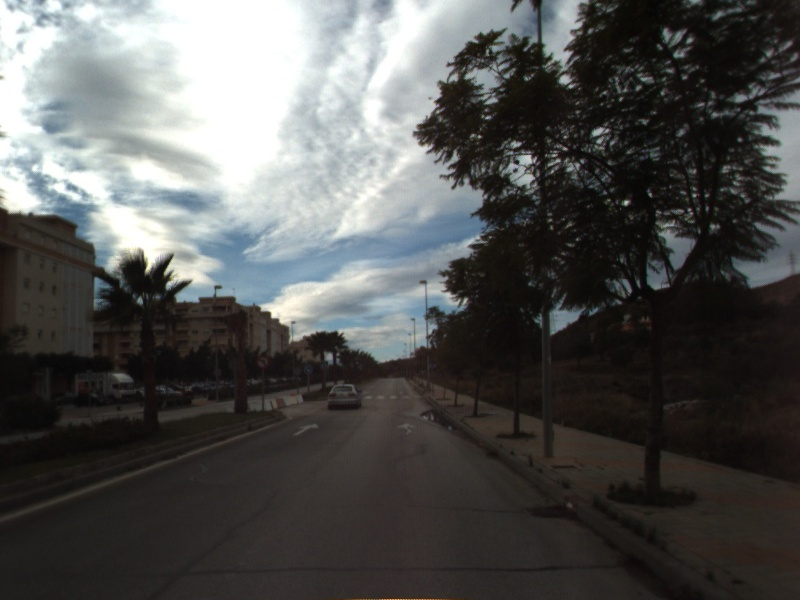STRAIGHT: (291, 421, 321, 437), (395, 420, 418, 438)
